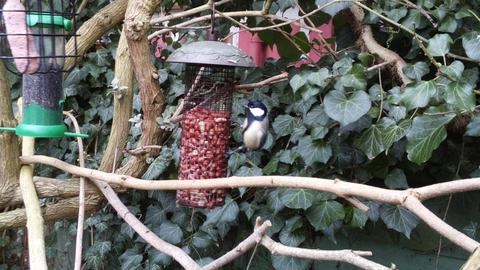great tit: (223, 100, 269, 158)
